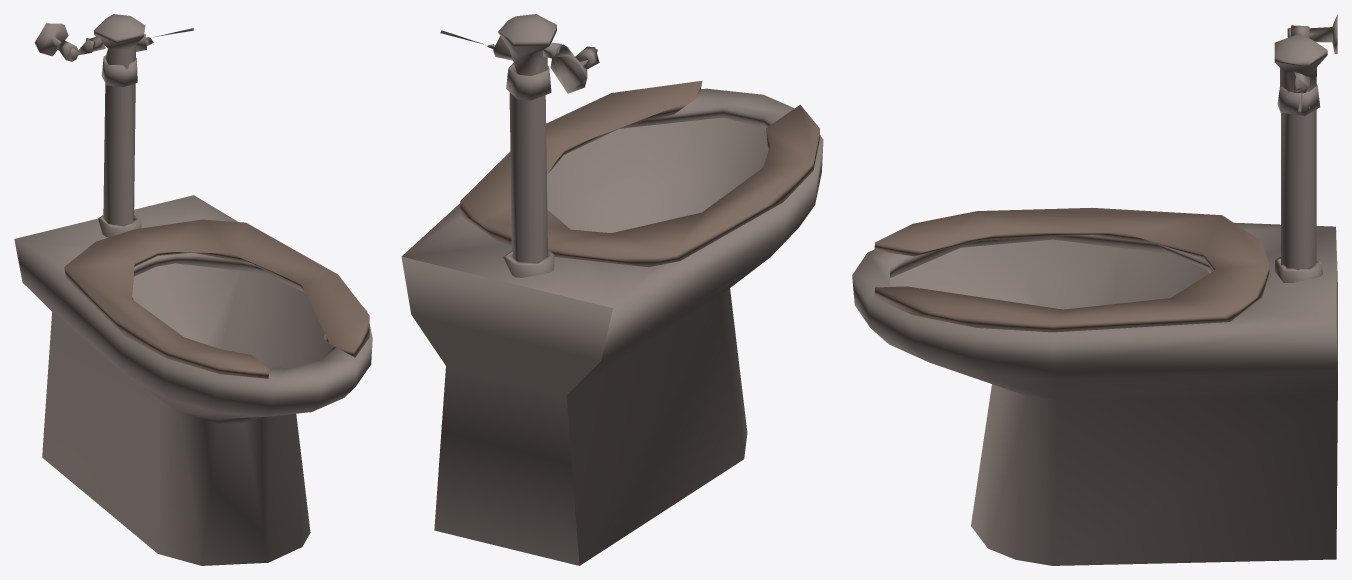
File: toilet.lod0.glb
3 renders of one model, left to right at view 1: azimuth 30°, elevation 25°; view 2: azimuth 150°, elevation 25°; view 3: azimuth 270°, elevation 25°, orthographic. The views are drawn at different scales.
Visible parts, largest first — view 1: pCylinder18_lambert1_0; view 2: pCylinder18_lambert1_0; view 3: pCylinder18_lambert1_0.
Part boxes in pixels (box(x1,y1,x2,y2)): pCylinder18_lambert1_0: box(14, 14, 372, 565); pCylinder18_lambert1_0: box(401, 14, 823, 565); pCylinder18_lambert1_0: box(852, 14, 1337, 565).
Bounding box in the file's own units: 0.4187 × 0.7978 × 0.7234.
